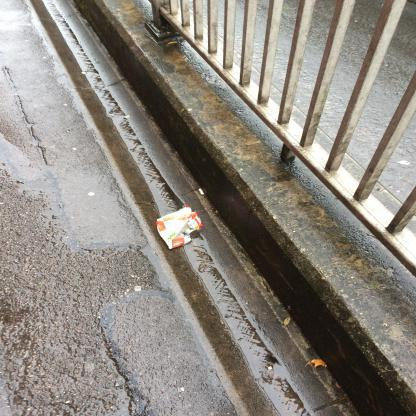karton: (157, 205, 204, 251)
